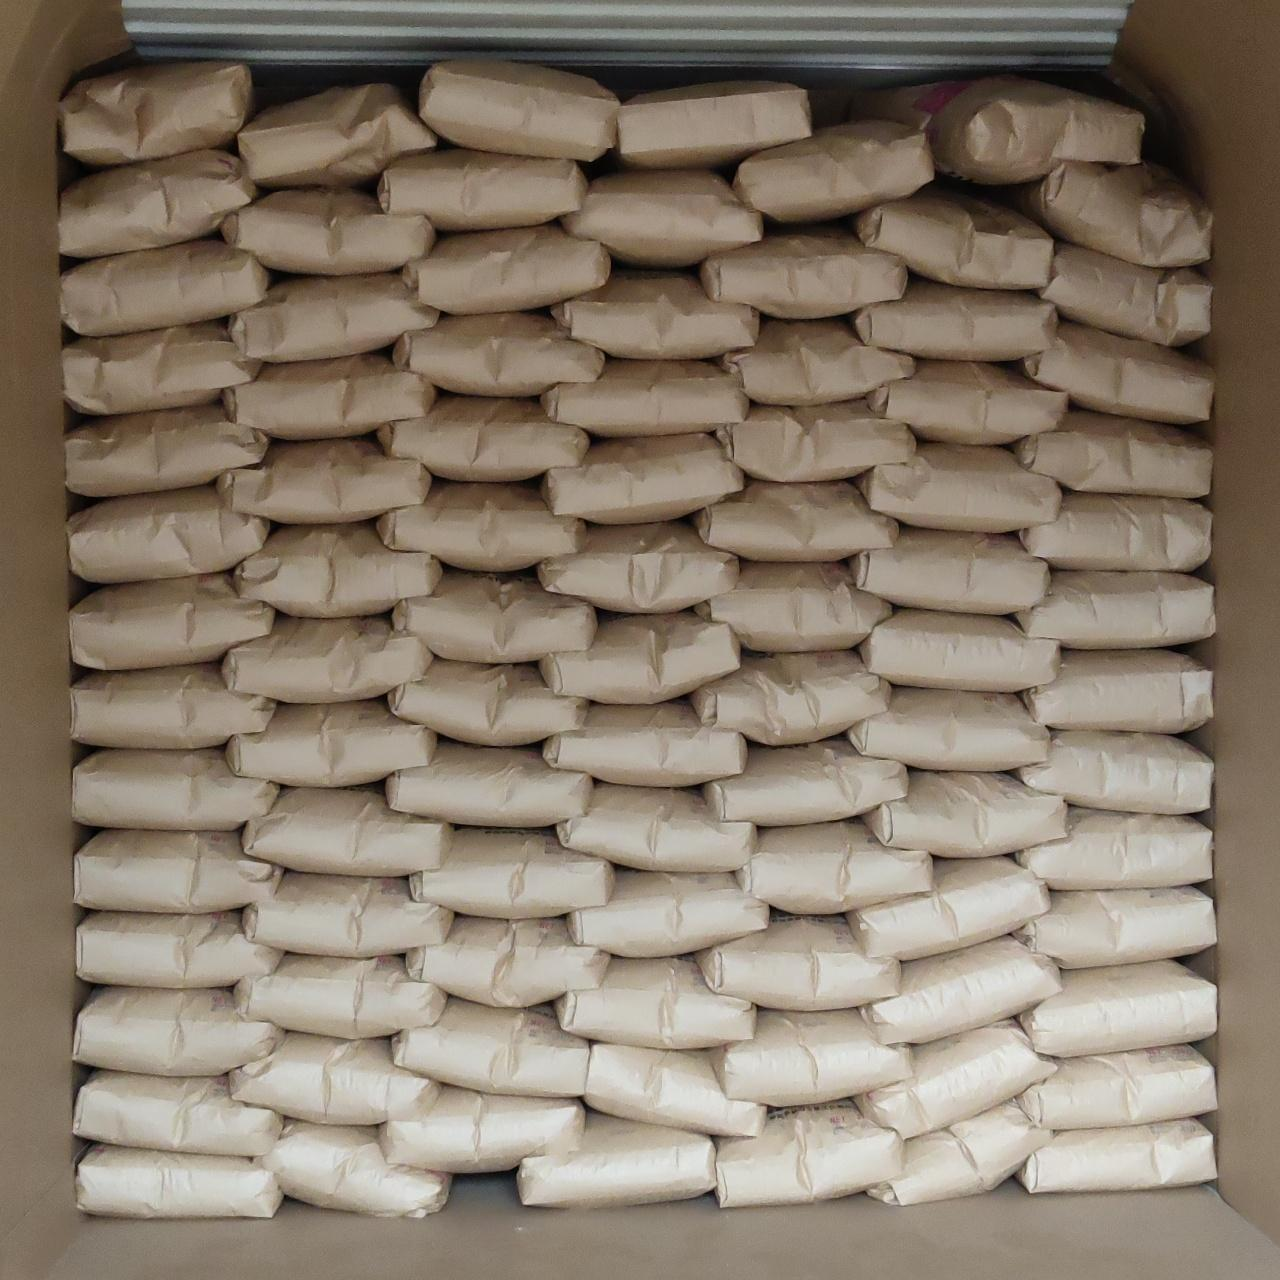sack: (846, 74, 1147, 186), (859, 1020, 1056, 1138), (1000, 161, 1212, 267), (849, 183, 1053, 289), (861, 936, 1061, 1044), (60, 150, 256, 258), (732, 120, 934, 222), (238, 84, 436, 187), (418, 60, 619, 161), (848, 858, 1049, 959), (60, 61, 252, 166), (61, 240, 270, 336), (717, 1101, 903, 1207), (1021, 320, 1212, 423), (562, 170, 763, 267), (392, 997, 588, 1096), (68, 486, 269, 582), (71, 574, 274, 669), (697, 916, 900, 1011), (235, 523, 440, 617), (712, 1010, 912, 1106), (700, 225, 906, 318), (230, 1033, 438, 1125), (517, 1111, 715, 1207), (690, 650, 889, 745), (1020, 961, 1216, 1057), (63, 320, 261, 415), (392, 570, 596, 662), (867, 1102, 1051, 1204), (243, 787, 452, 876), (66, 404, 268, 496), (222, 188, 435, 275), (73, 987, 281, 1076), (260, 1120, 450, 1217), (403, 225, 610, 314), (378, 482, 585, 571), (230, 273, 439, 361), (410, 828, 614, 918), (406, 917, 610, 1007), (222, 616, 433, 703), (227, 699, 435, 787), (553, 957, 754, 1048), (551, 271, 758, 359), (217, 438, 431, 523), (542, 433, 744, 523), (537, 522, 739, 612), (704, 737, 908, 826), (696, 560, 892, 652), (234, 954, 446, 1039), (379, 1086, 585, 1173), (860, 443, 1061, 532), (243, 872, 453, 957), (386, 740, 593, 826), (737, 822, 932, 913), (224, 354, 435, 438), (540, 614, 739, 703), (556, 783, 755, 872), (393, 312, 604, 395), (852, 276, 1058, 361), (74, 1071, 280, 1156), (567, 870, 768, 957), (864, 771, 1067, 857), (378, 397, 588, 480), (1012, 411, 1212, 498), (71, 663, 275, 748), (544, 702, 747, 787), (377, 149, 587, 231), (75, 830, 282, 913), (1040, 244, 1210, 345), (850, 528, 1049, 614), (1017, 1045, 1216, 1130), (866, 360, 1067, 444), (849, 687, 1049, 771), (616, 81, 811, 167), (389, 660, 586, 745), (584, 1044, 766, 1136), (859, 609, 1059, 692), (725, 317, 913, 405), (1013, 732, 1212, 815), (692, 480, 898, 560), (1012, 887, 1215, 968), (73, 749, 278, 829), (541, 358, 748, 436), (719, 399, 915, 481), (1017, 807, 1211, 889), (1024, 650, 1212, 734), (77, 912, 283, 988), (1014, 571, 1214, 648), (1019, 493, 1211, 572), (1018, 1118, 1216, 1193), (78, 1146, 282, 1218)
